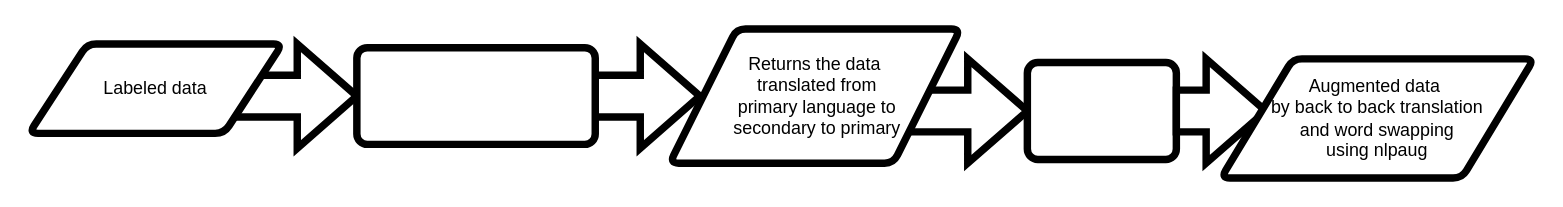
Image size: 1563x207. Some labels were removed from this diagram. Here are the shapes that lost their labels. From the top down, the centre of each, then its label:
At (x=475, y=95): "Calling method back_to_back_translation".
At (x=1101, y=110): "Calling method data_aug_naw".
